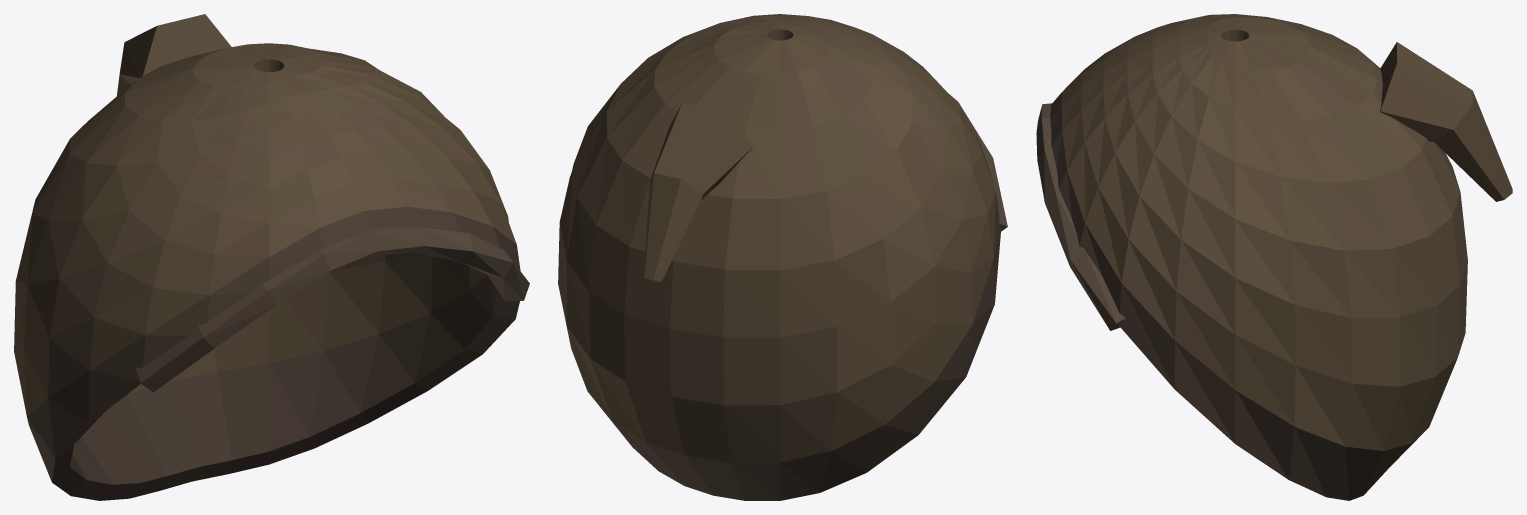
File: wear_hood.glb
3 views of the same model, side by side, from view 1: azimuth 30°, elevation 25°; view 2: azimuth 150°, elevation 25°; view 3: azimuth 270°, elevation 25° (orthographic). The views are drawn at different scales.
Visible parts, largest first — view 1: wear_hood; view 2: wear_hood; view 3: wear_hood.
Part boxes in pixels (x1=…): wear_hood: x1=14, y1=14, x2=529, y2=500; wear_hood: x1=558, y1=14, x2=1007, y2=500; wear_hood: x1=1036, y1=14, x2=1512, y2=500.
Size of the model in its own units: 0.6434 by 0.6568 by 0.6535.
